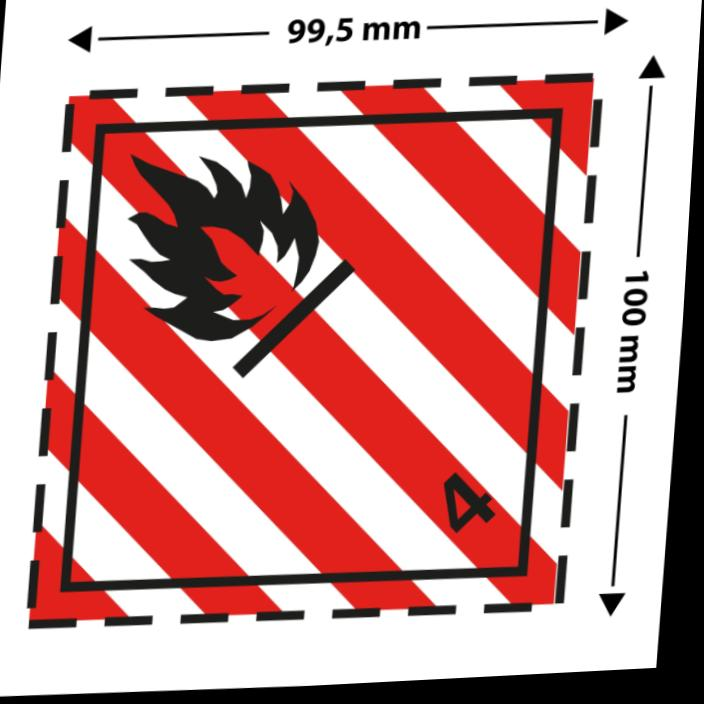chair: (17, 54, 612, 650)
